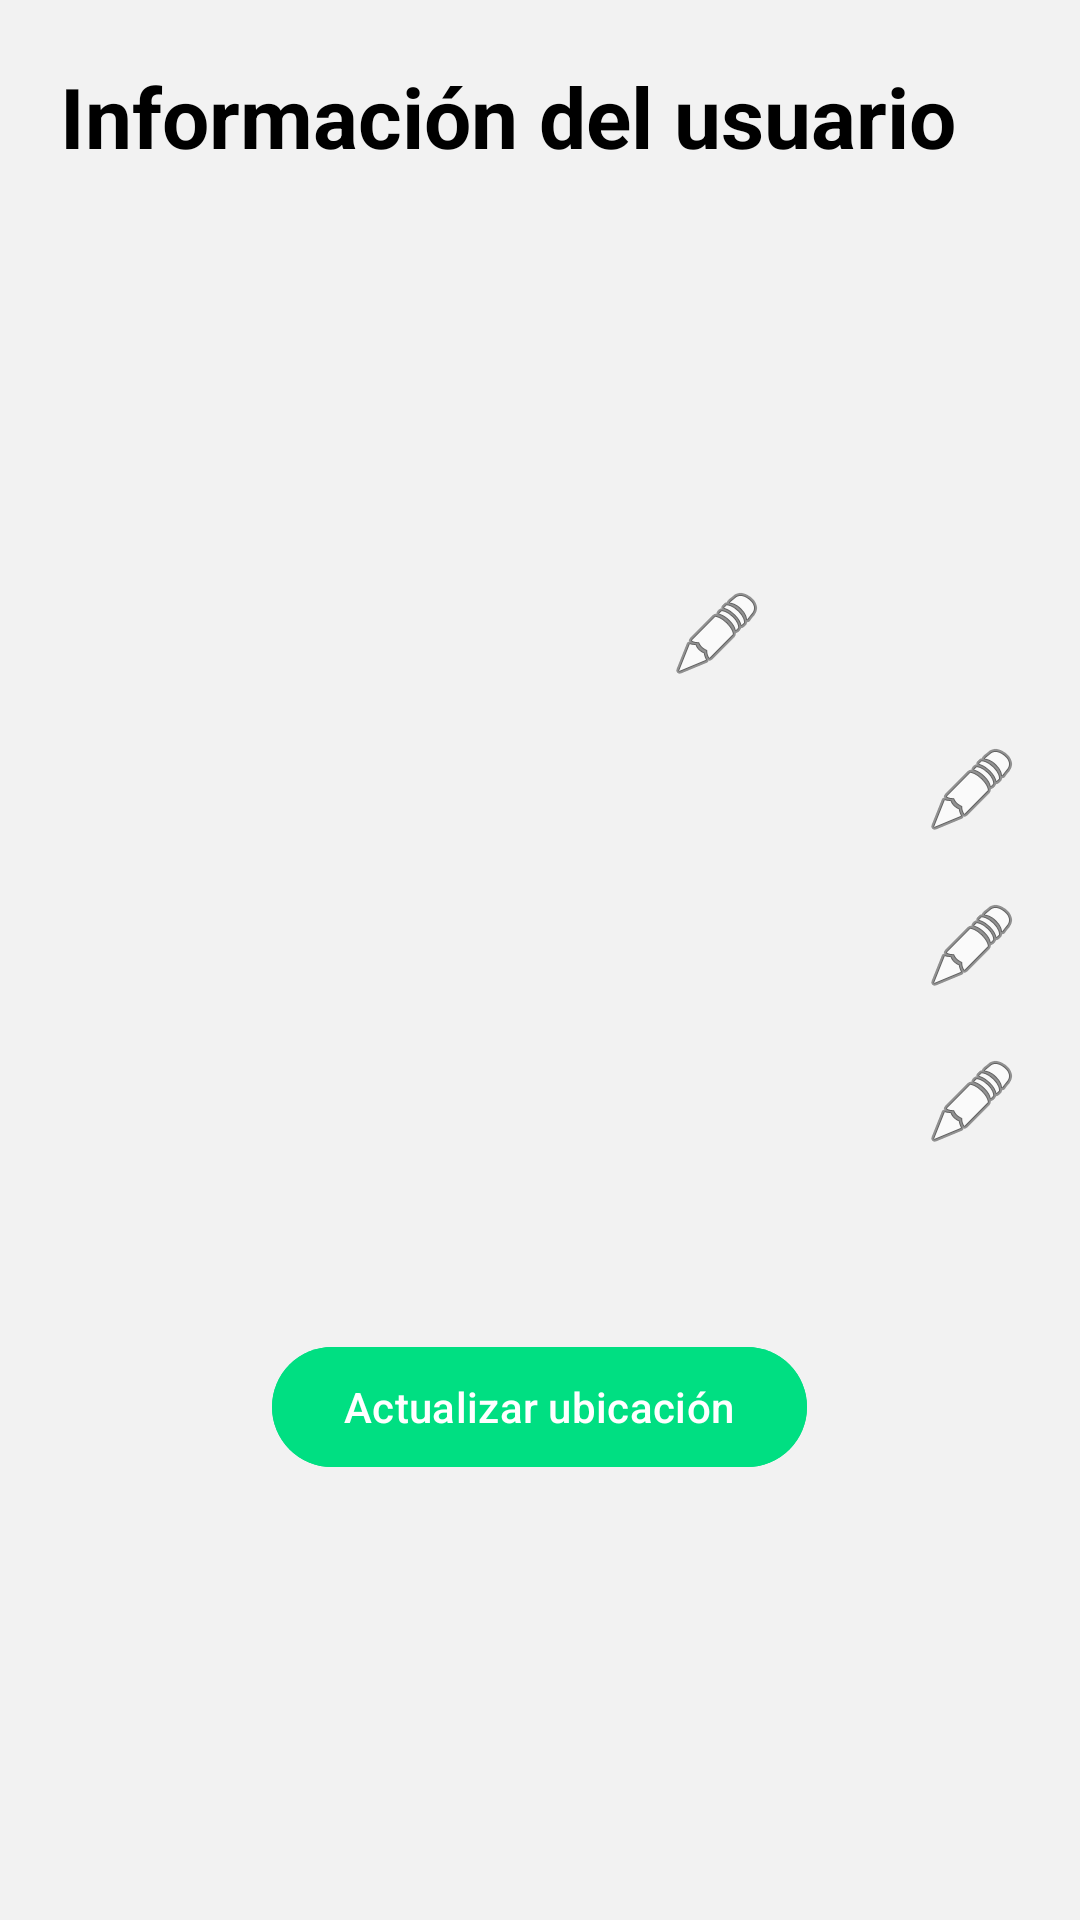

Where icons sit on this 1080 x 1920 app screen, as [left=x1, top=y1, right=x2, bottom=y2]:
Editar: [left=676, top=593, right=757, bottom=674], [left=931, top=749, right=1012, bottom=830], [left=931, top=905, right=1012, bottom=986], [left=931, top=1061, right=1012, bottom=1142]
